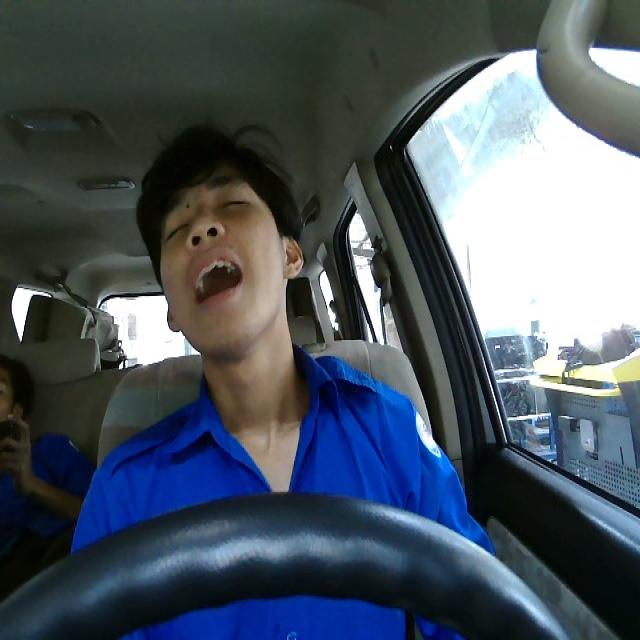yarning: (154, 157, 303, 352)
